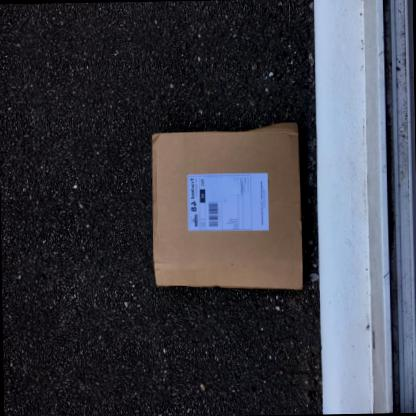box: (149, 119, 304, 293)
